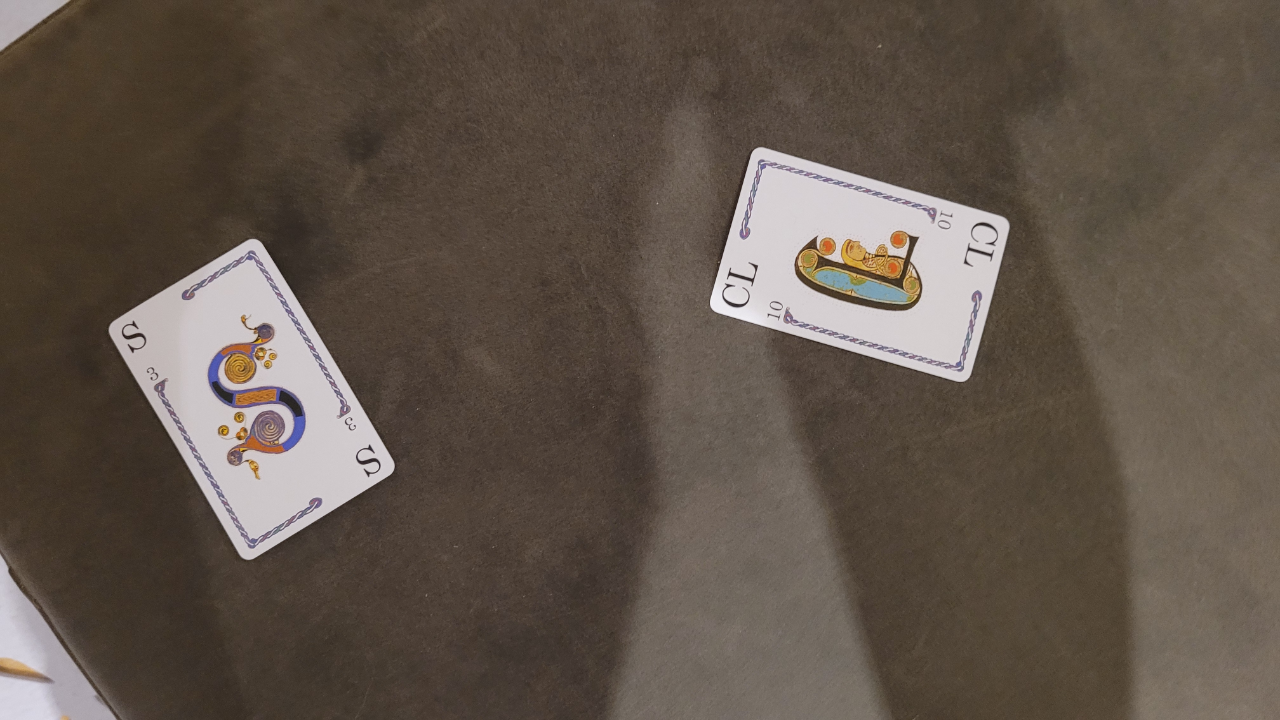quiddler_card: (98, 231, 406, 577), (695, 139, 1028, 397)
